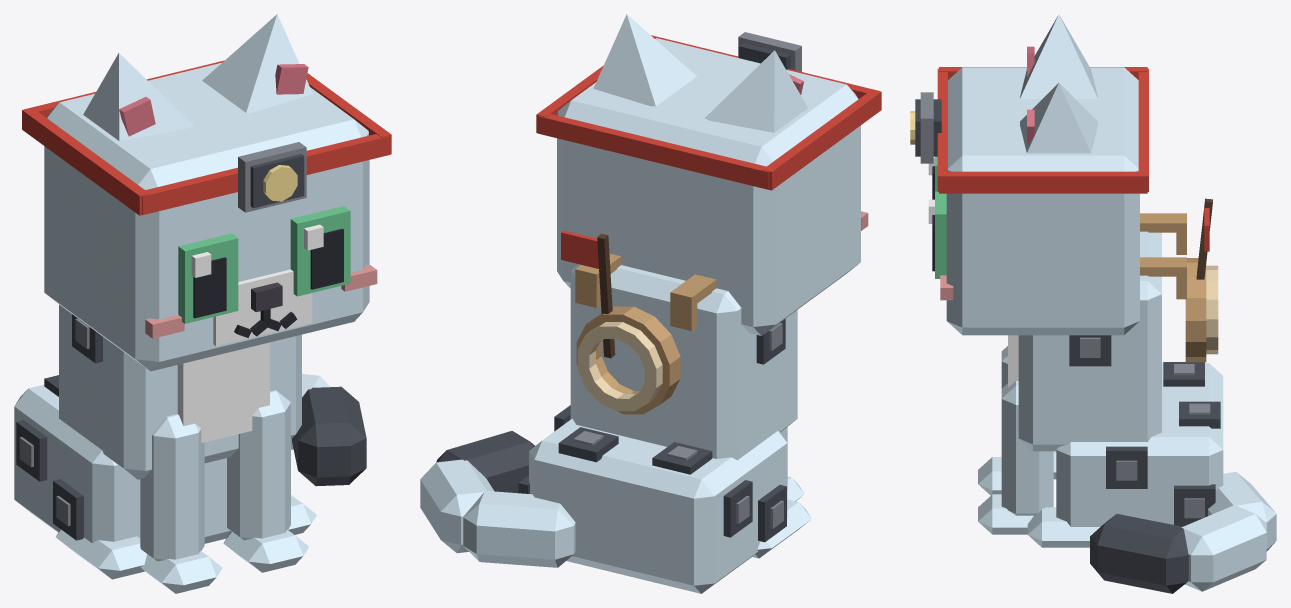
Rendered from CatCafe_Cat_SnowLeopard_Sit.glb.
The picture shows the model from 3 angles, left to right: view 1: azimuth 30°, elevation 25°; view 2: azimuth 150°, elevation 25°; view 3: azimuth 270°, elevation 25°; orthographic projection. The views are drawn at different scales.
Visible parts, largest first — view 1: CatCafe_Cat_SnowLeopard_Sit_Head, CatCafe_Cat_SnowLeopard_Sit_Body, CatCafe_Cat_SnowLeopard_Sit_Prop2, CatCafe_Cat_SnowLeopard_Sit_LegF2, CatCafe_Cat_SnowLeopard_Sit_LegF1, CatCafe_Cat_SnowLeopard_Sit_Tail, CatCafe_Cat_SnowLeopard_Sit_EarL, CatCafe_Cat_SnowLeopard_Sit_EarR, CatCafe_Cat_SnowLeopard_Sit_Eye2, CatCafe_Cat_SnowLeopard_Sit_Eye1, CatCafe_Cat_SnowLeopard_Sit_Lamp_Glow; view 2: CatCafe_Cat_SnowLeopard_Sit_Body, CatCafe_Cat_SnowLeopard_Sit_Head, CatCafe_Cat_SnowLeopard_Sit_Tail, CatCafe_Cat_SnowLeopard_Sit_Prop, CatCafe_Cat_SnowLeopard_Sit_Prop2, CatCafe_Cat_SnowLeopard_Sit_EarL, CatCafe_Cat_SnowLeopard_Sit_EarR; view 3: CatCafe_Cat_SnowLeopard_Sit_Head, CatCafe_Cat_SnowLeopard_Sit_Body, CatCafe_Cat_SnowLeopard_Sit_Tail, CatCafe_Cat_SnowLeopard_Sit_Prop2, CatCafe_Cat_SnowLeopard_Sit_Prop, CatCafe_Cat_SnowLeopard_Sit_LegF1, CatCafe_Cat_SnowLeopard_Sit_EarL, CatCafe_Cat_SnowLeopard_Sit_EarR, CatCafe_Cat_SnowLeopard_Sit_Eye1, CatCafe_Cat_SnowLeopard_Sit_LegF2.
Part boxes in pixels (bbox=[...]): CatCafe_Cat_SnowLeopard_Sit_Head: bbox=[44, 62, 377, 371]; CatCafe_Cat_SnowLeopard_Sit_Body: bbox=[14, 304, 316, 579]; CatCafe_Cat_SnowLeopard_Sit_Prop2: bbox=[22, 60, 391, 215]; CatCafe_Cat_SnowLeopard_Sit_LegF2: bbox=[140, 414, 222, 593]; CatCafe_Cat_SnowLeopard_Sit_LegF1: bbox=[223, 390, 308, 572]; CatCafe_Cat_SnowLeopard_Sit_Tail: bbox=[291, 374, 366, 486]; CatCafe_Cat_SnowLeopard_Sit_EarL: bbox=[202, 14, 312, 112]; CatCafe_Cat_SnowLeopard_Sit_EarR: bbox=[83, 53, 193, 141]; CatCafe_Cat_SnowLeopard_Sit_Eye2: bbox=[178, 233, 238, 323]; CatCafe_Cat_SnowLeopard_Sit_Eye1: bbox=[290, 206, 350, 296]; CatCafe_Cat_SnowLeopard_Sit_Lamp_Glow: bbox=[263, 165, 297, 201]; CatCafe_Cat_SnowLeopard_Sit_Body: bbox=[518, 264, 811, 593]; CatCafe_Cat_SnowLeopard_Sit_Head: bbox=[557, 38, 868, 335]; CatCafe_Cat_SnowLeopard_Sit_Tail: bbox=[420, 431, 575, 567]; CatCafe_Cat_SnowLeopard_Sit_Prop: bbox=[561, 230, 716, 414]; CatCafe_Cat_SnowLeopard_Sit_Prop2: bbox=[536, 32, 881, 190]; CatCafe_Cat_SnowLeopard_Sit_EarL: bbox=[593, 14, 696, 106]; CatCafe_Cat_SnowLeopard_Sit_EarR: bbox=[704, 50, 807, 132]; CatCafe_Cat_SnowLeopard_Sit_Head: bbox=[940, 67, 1139, 335]; CatCafe_Cat_SnowLeopard_Sit_Body: bbox=[1008, 231, 1223, 547]; CatCafe_Cat_SnowLeopard_Sit_Tail: bbox=[1090, 472, 1276, 593]; CatCafe_Cat_SnowLeopard_Sit_Prop2: bbox=[915, 67, 1148, 193]; CatCafe_Cat_SnowLeopard_Sit_Prop: bbox=[1140, 198, 1218, 362]; CatCafe_Cat_SnowLeopard_Sit_LegF1: bbox=[978, 381, 1053, 534]; CatCafe_Cat_SnowLeopard_Sit_EarL: bbox=[1020, 83, 1097, 153]; CatCafe_Cat_SnowLeopard_Sit_EarR: bbox=[1020, 14, 1097, 98]; CatCafe_Cat_SnowLeopard_Sit_Eye1: bbox=[928, 191, 946, 278]; CatCafe_Cat_SnowLeopard_Sit_LegF2: bbox=[978, 346, 1007, 495].
Size of the model in its own units: 1.3 by 1.85 by 1.33.
Materials: 1 (1 with a texture image).
